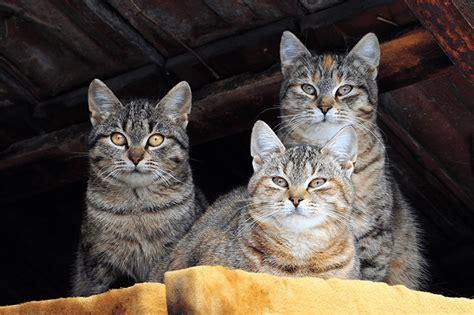cat: (280, 29, 421, 291), (179, 119, 360, 278), (72, 78, 200, 296)
